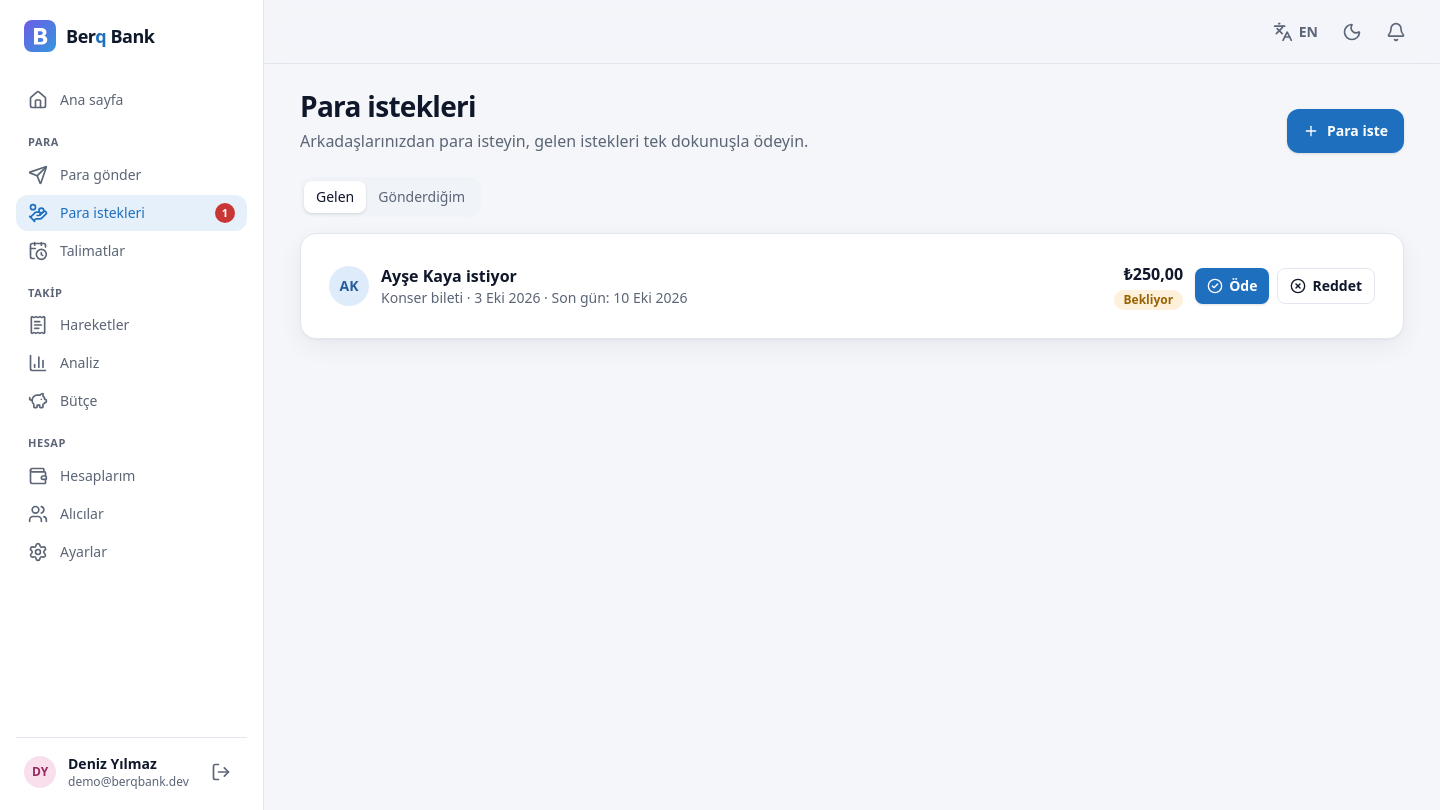
Test: money requests › shows sent requests on the second tab with a cancel action
Click the radio button labelled "Gönderdiğim" at (422, 197), box left=366, top=181, right=477, bottom=213
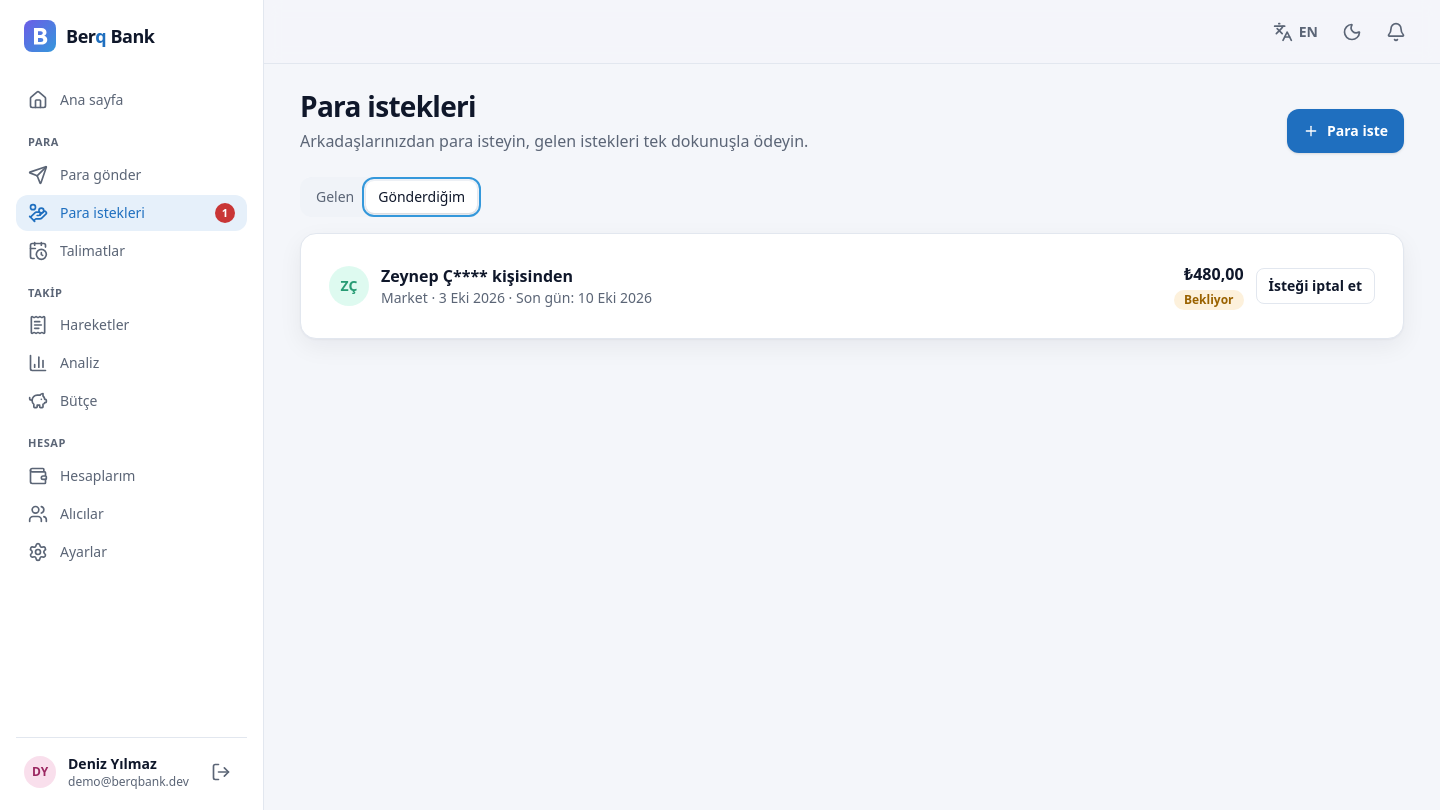
Now the text "Zeynep Ç**** kişisinden" is shown, box left=381, top=265, right=573, bottom=287
Now the button "İsteği iptal et" is shown, box left=1256, top=268, right=1375, bottom=304
